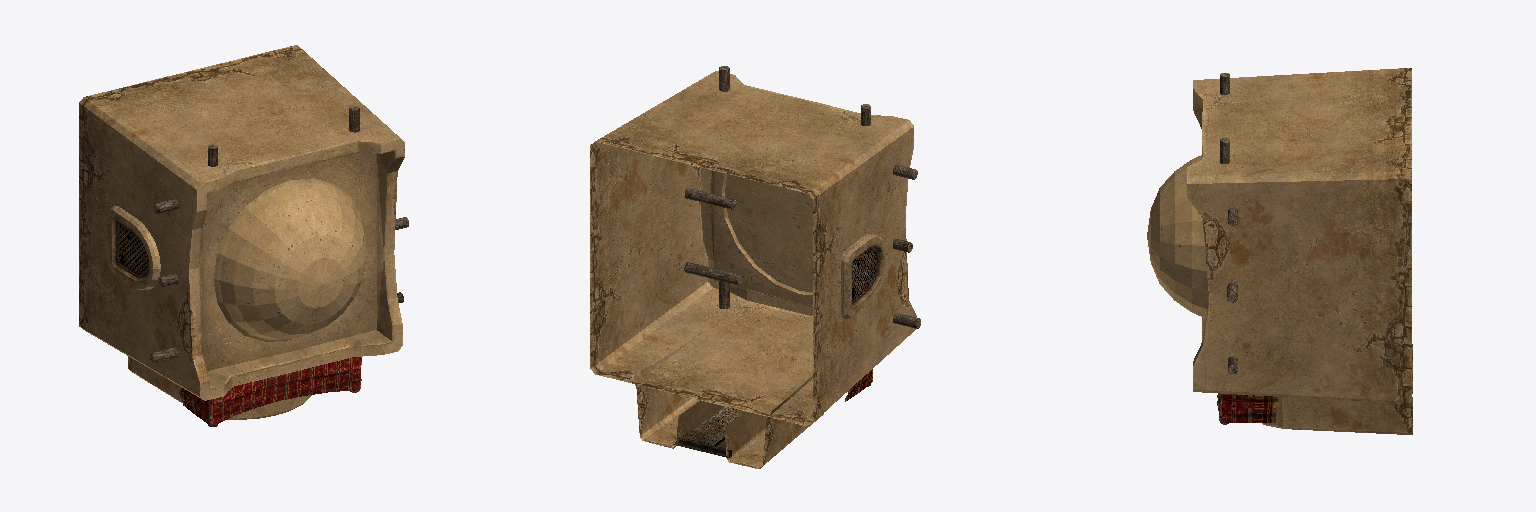
The picture shows the model from 3 angles: view 1: azimuth 30°, elevation 25°; view 2: azimuth 150°, elevation 25°; view 3: azimuth 270°, elevation 25°; orthographic projection.
Visible parts, largest first — view 1: Cube_298_Cube_115_003_Cube_298_Cube_115_002, Sphere_001_Sphere_002_001_Sphere_001_Sphere_002_003, Plane_044_Plane_023_000_Plane_044_Plane_023_002, Cube_339_Cube_155_001, Plane_048_Plane_027_001_Plane_048_Plane_027_003, Cube_342_Cube_158_001; view 2: Cube_298_Cube_115_003_Cube_298_Cube_115_002, Plane_048_Plane_027_001_Plane_048_Plane_027_003, Cube_339_Cube_155_001, Cube_273_Cube_091, Cube_342_Cube_158_001, Cube_296_Cube_107_005_Cube_296_Cube_107_003, Cube_296_Cube_107_007_Cube_296_Cube_107_003; view 3: Cube_298_Cube_115_003_Cube_298_Cube_115_002, Sphere_001_Sphere_002_001_Sphere_001_Sphere_002_003, Plane_048_Plane_027_001_Plane_048_Plane_027_003, Plane_044_Plane_023_000_Plane_044_Plane_023_002.
Boxes of the visible parts, x1=… form: Cube_298_Cube_115_003_Cube_298_Cube_115_002: x1=79, y1=45, x2=404, y2=400; Sphere_001_Sphere_002_001_Sphere_001_Sphere_002_003: x1=214, y1=178, x2=366, y2=341; Plane_044_Plane_023_000_Plane_044_Plane_023_002: x1=179, y1=357, x2=361, y2=424; Cube_339_Cube_155_001: x1=107, y1=205, x2=160, y2=289; Plane_048_Plane_027_001_Plane_048_Plane_027_003: x1=128, y1=356, x2=311, y2=419; Cube_342_Cube_158_001: x1=119, y1=224, x2=148, y2=275; Cube_298_Cube_115_003_Cube_298_Cube_115_002: x1=590, y1=71, x2=916, y2=426; Plane_048_Plane_027_001_Plane_048_Plane_027_003: x1=631, y1=322, x2=823, y2=468; Cube_339_Cube_155_001: x1=841, y1=233, x2=887, y2=318; Cube_273_Cube_091: x1=682, y1=406, x2=745, y2=448; Cube_342_Cube_158_001: x1=852, y1=249, x2=876, y2=300; Cube_296_Cube_107_005_Cube_296_Cube_107_003: x1=684, y1=262, x2=742, y2=284; Cube_296_Cube_107_007_Cube_296_Cube_107_003: x1=685, y1=188, x2=736, y2=209; Cube_298_Cube_115_003_Cube_298_Cube_115_002: x1=1187, y1=68, x2=1411, y2=403; Sphere_001_Sphere_002_001_Sphere_001_Sphere_002_003: x1=1147, y1=155, x2=1208, y2=318; Plane_048_Plane_027_001_Plane_048_Plane_027_003: x1=1262, y1=344, x2=1412, y2=434; Plane_044_Plane_023_000_Plane_044_Plane_023_002: x1=1217, y1=393, x2=1277, y2=422.
Size of the model in its own units: 4.47 by 5.05 by 4.04.
Materials: 24 (3 with a texture image).